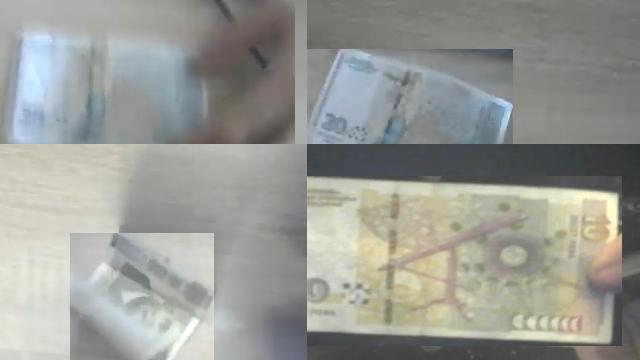10leva: (307, 177, 622, 346), (70, 233, 214, 360)
20leva: (307, 49, 513, 144)
